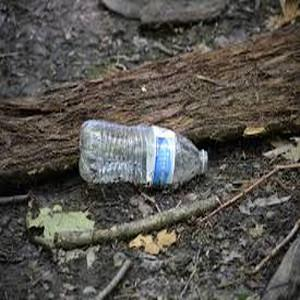Plastic: (77, 118, 214, 193)
